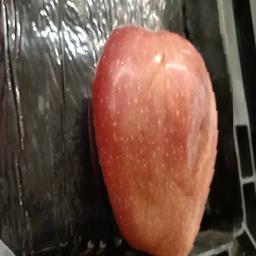Apple Semifresh: (84, 20, 233, 256)
